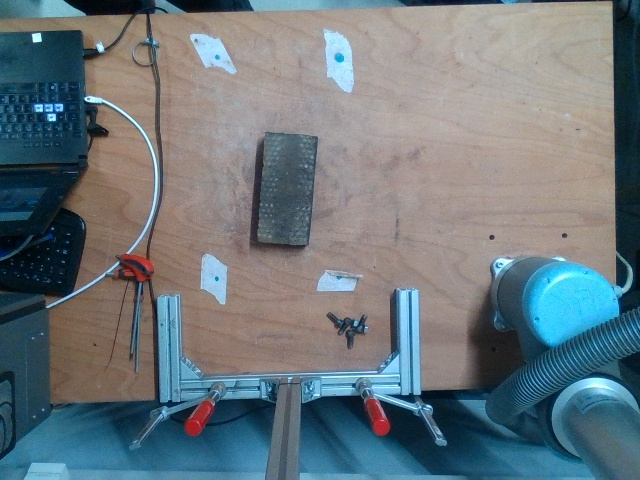brick: (252, 129, 317, 248)
